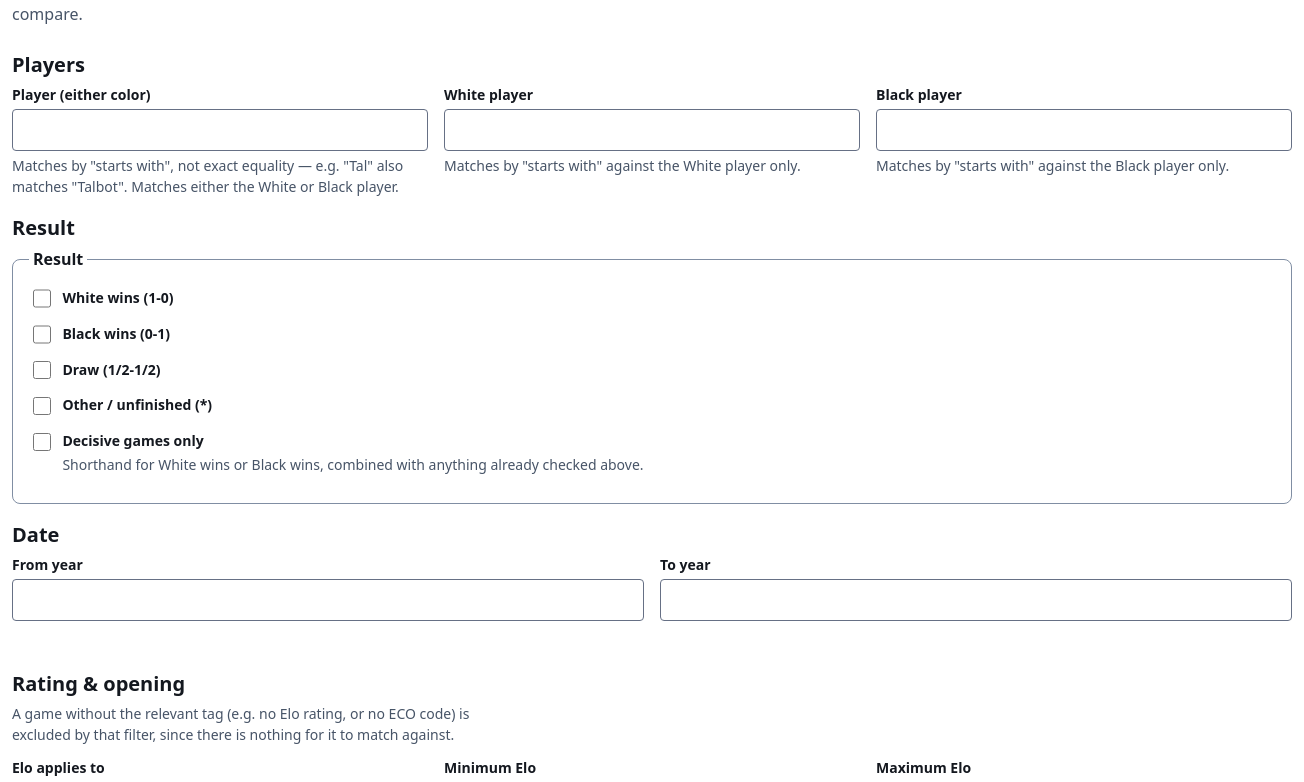
FiltersScreen › Clear all filters resets every field
Type "Tal" into the field labelled "Player (either color)" at (220, 130), box x1=12 y1=109 x2=428 y2=151
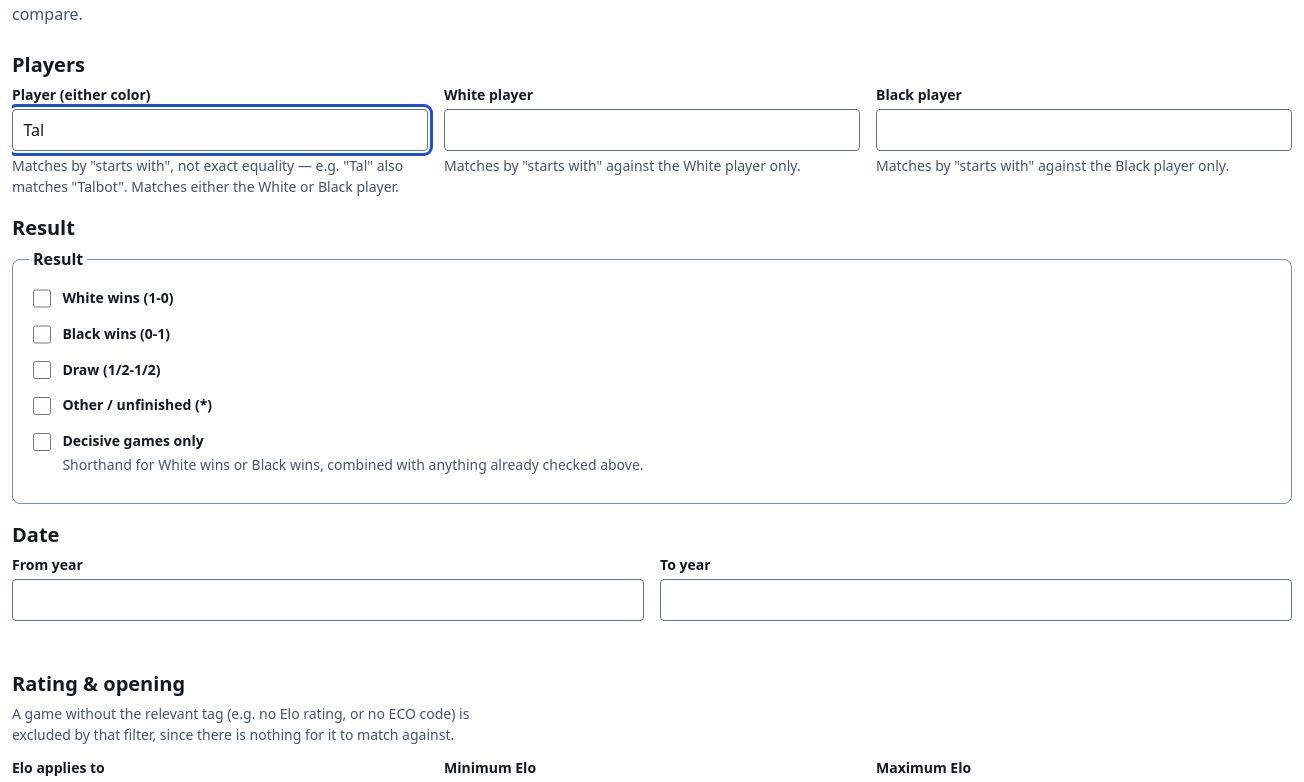
Click the checkbox labelled "Decisive games only" at (42, 442), box x1=33 y1=432 x2=51 y2=451
(page scrolled)
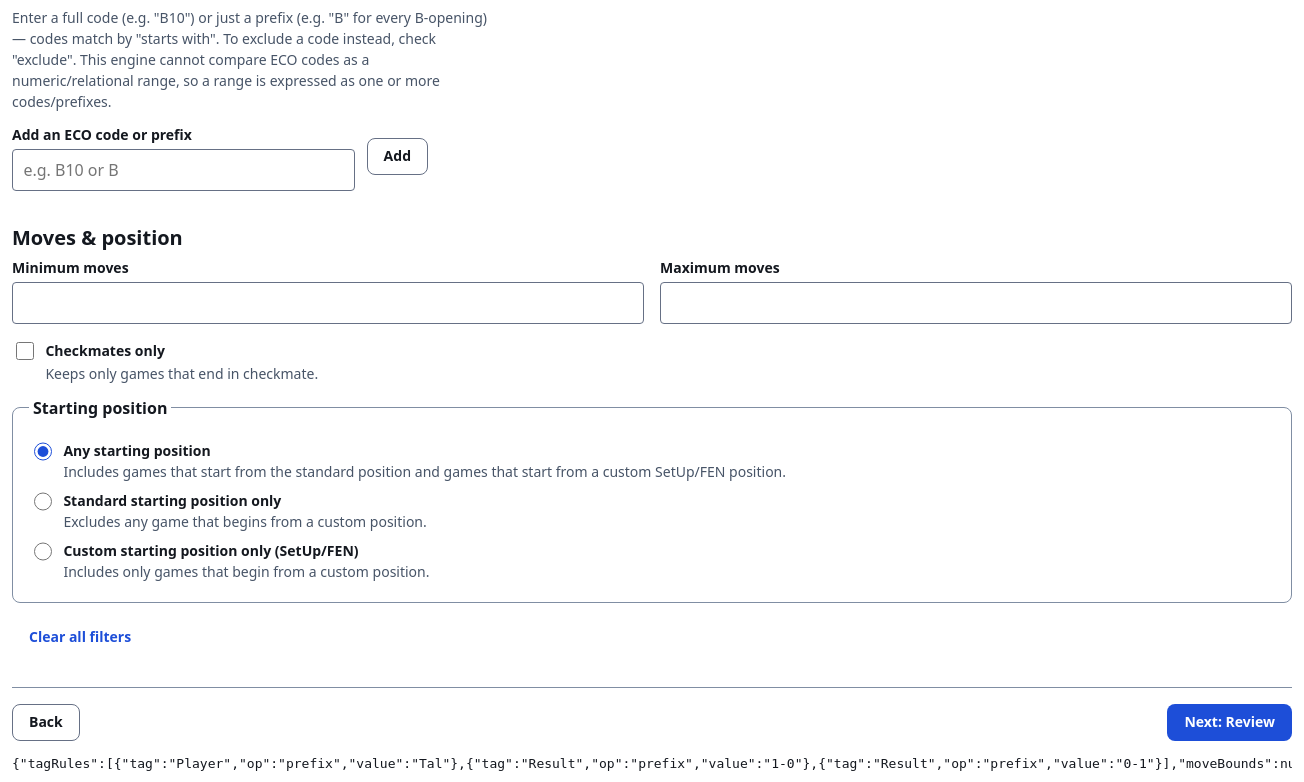
Click the button "Clear all filters" at (80, 637), box x1=12 y1=619 x2=148 y2=655
(page scrolled)
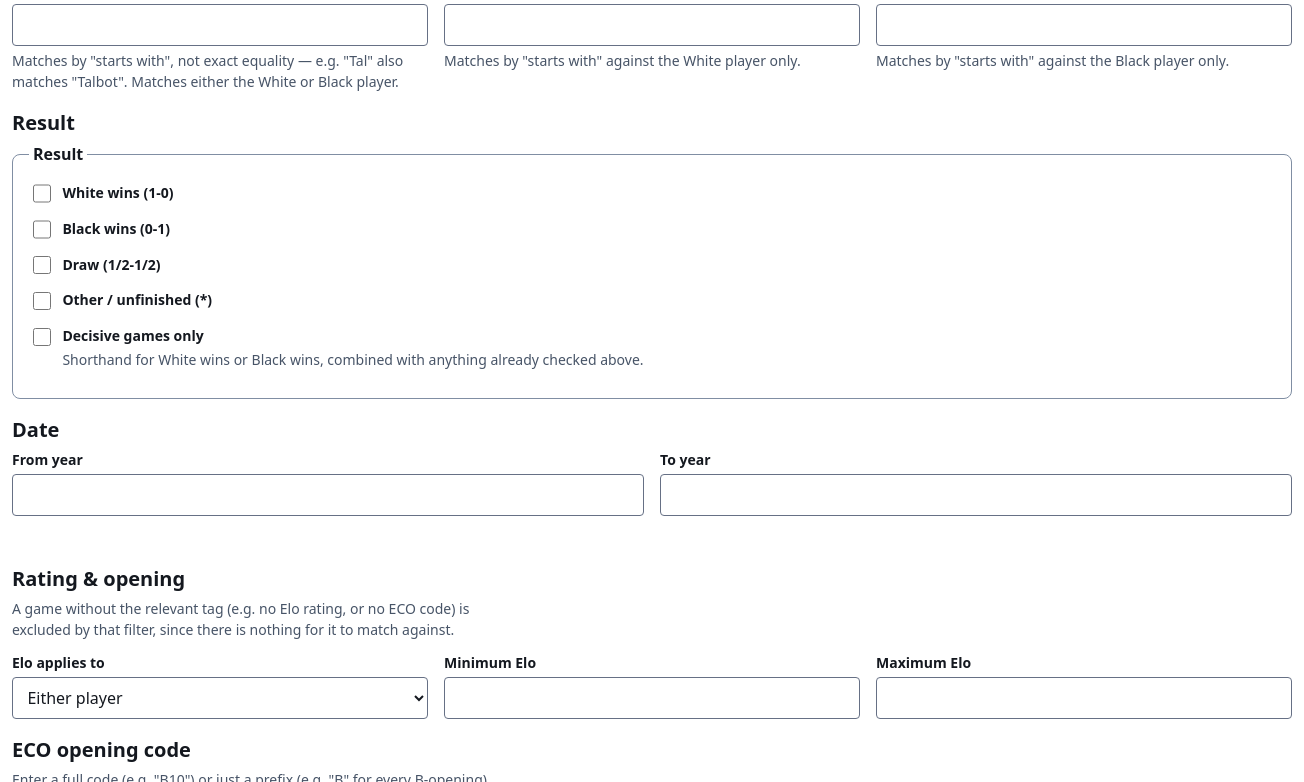
Expected: the checkbox labelled "Decisive games only" is not checked, x1=33 y1=328 x2=51 y2=346
Expected: the field labelled "Player (either color)" is empty, x1=12 y1=4 x2=428 y2=46
